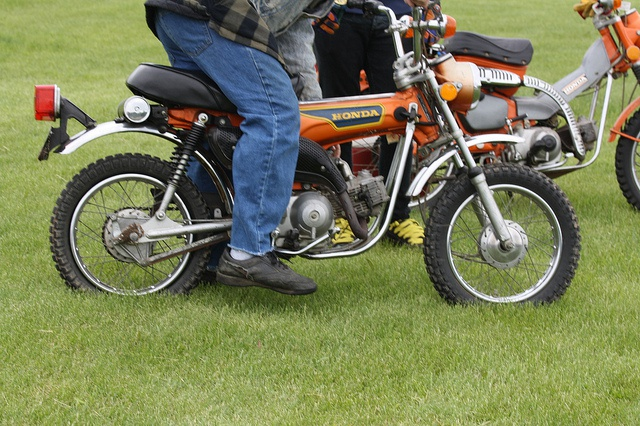non-vehicle: (37, 3, 579, 308), (446, 2, 640, 207)
